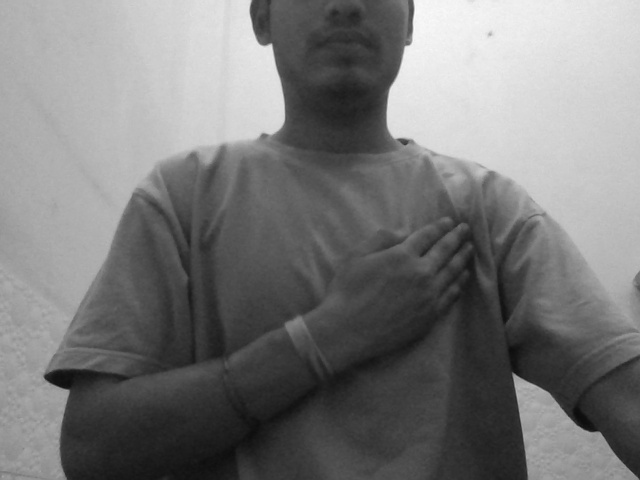Sorry: (265, 204, 515, 407)
